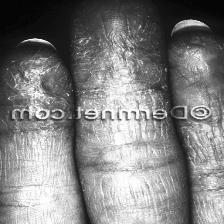Non-Cancerous Skin Condition: (72, 28, 161, 87)
